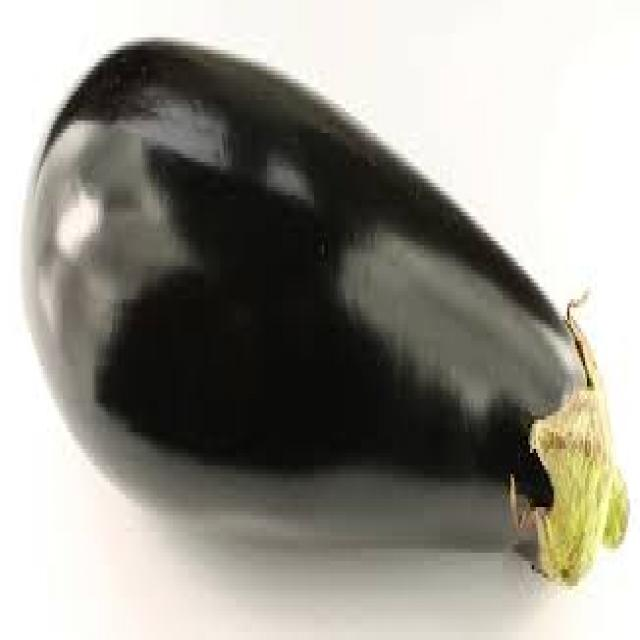eggplant: (8, 8, 632, 636)
